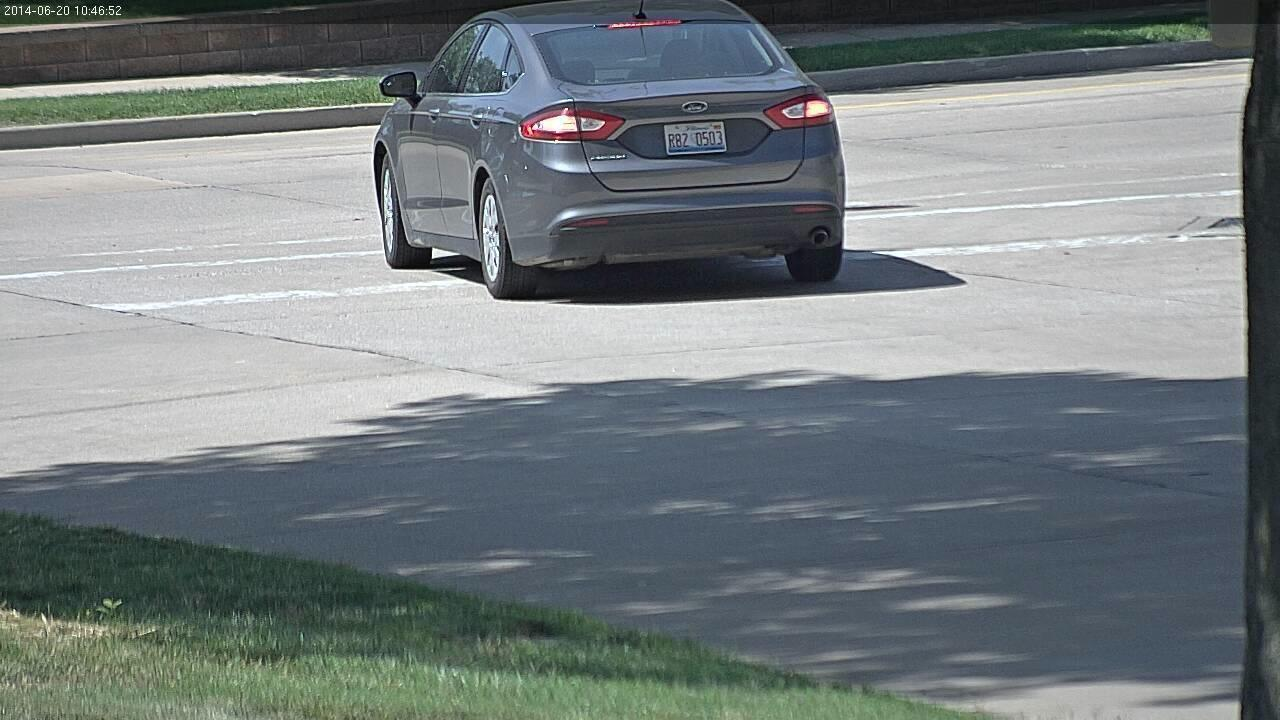placa de veiculo: (637, 117, 759, 172)
